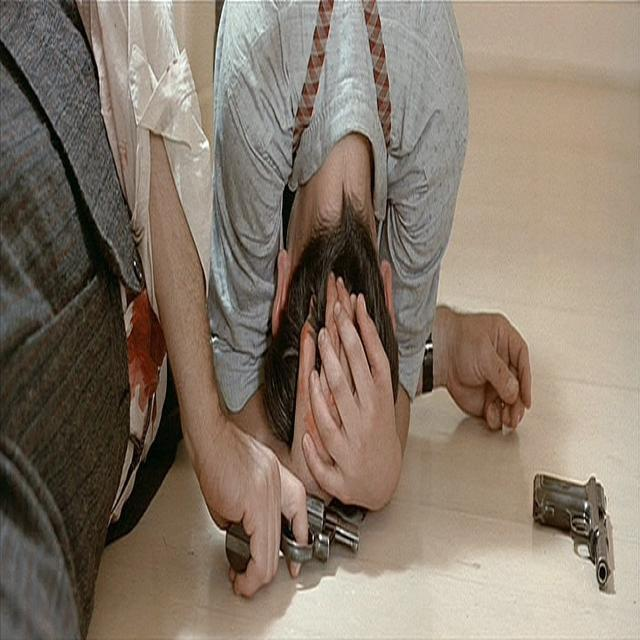gun-knife-thesis - v11 Yolov5 augmented: (218, 443, 371, 597), (523, 443, 617, 607)
